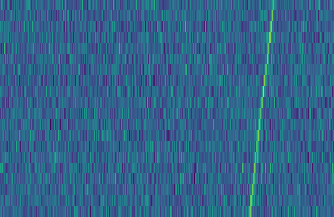signal: (246, 0, 280, 217)
